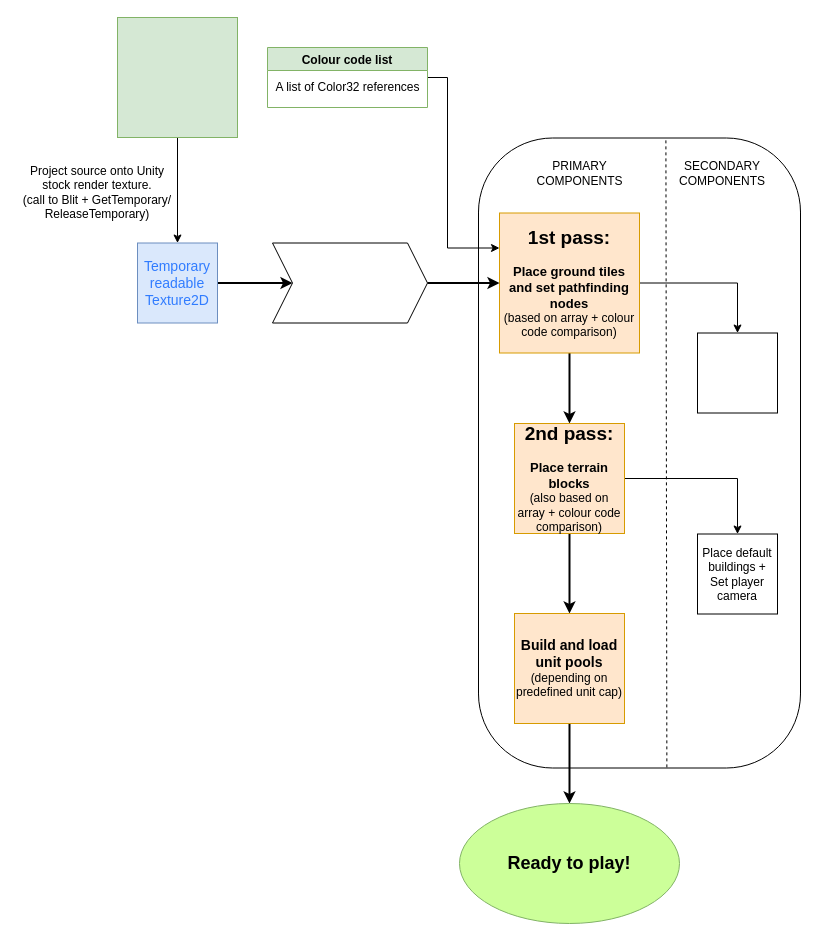
The diagram is 818 pixels wide and 941 high, and some of its shapes have lost their labels. Here are the shapes that lost their labels. From the top down, the centre of each, then its label:
[177,77]: Raw bitmap image
[350,282]: Scan pixels: returns custom pixel array
[737,372]: Setup minimap
